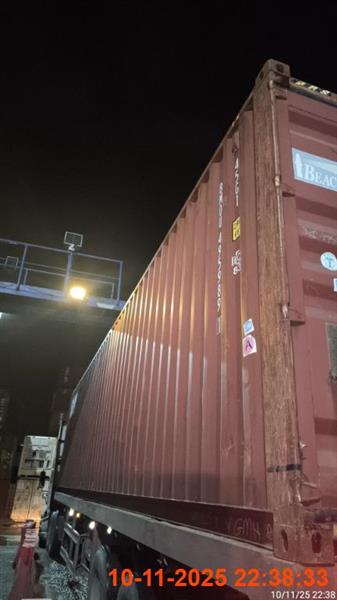hole: (37, 59, 335, 599)
